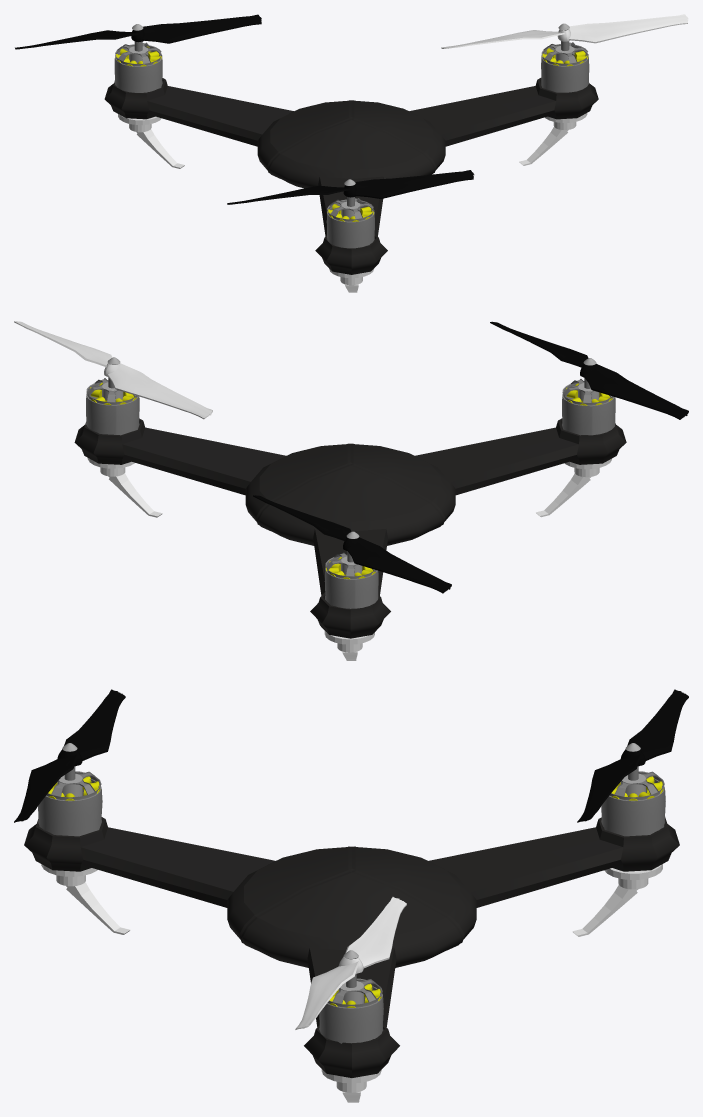
Rendered from uav4.fbx.
The picture shows the model from 3 angles, top to bottom: view 1: azimuth 30°, elevation 25°; view 2: azimuth 150°, elevation 25°; view 3: azimuth 270°, elevation 25°; orthographic projection. The views are drawn at different scales.
Parts seen in each view (by area): view 1: pCylinder63, polySurface62, polySurface58, polySurface59, pCylinder69, pCylinder65, pCylinder66, pCube11, pCube10; view 2: pCylinder63, polySurface59, polySurface58, polySurface62, pCylinder69, pCylinder66, pCylinder65, pCube12, pCube10, pCube11; view 3: pCylinder63, polySurface58, polySurface59, polySurface62, pCylinder66, pCylinder65, pCylinder69, pCube11, pCube12, pCube10.
Boxes of the visible parts, x1,y1,x2,y2 form: pCylinder63: [104, 78, 598, 274]; polySurface62: [441, 14, 688, 48]; polySurface58: [15, 14, 261, 49]; polySurface59: [227, 170, 474, 204]; pCylinder69: [541, 41, 589, 92]; pCylinder65: [114, 41, 162, 92]; pCylinder66: [326, 197, 374, 248]; pCube11: [118, 114, 184, 168]; pCube10: [519, 113, 587, 165]; pCylinder63: [74, 418, 626, 638]; polySurface59: [490, 321, 688, 419]; polySurface58: [253, 495, 451, 593]; polySurface62: [14, 321, 212, 419]; pCylinder69: [86, 377, 139, 435]; pCylinder66: [562, 378, 615, 435]; pCylinder65: [324, 551, 378, 608]; pCube12: [536, 458, 611, 517]; pCube10: [87, 458, 162, 517]; pCube11: [324, 631, 374, 660]; pCylinder63: [24, 817, 679, 1077]; polySurface58: [577, 689, 688, 822]; polySurface59: [14, 689, 125, 822]; polySurface62: [295, 897, 406, 1029]; pCylinder66: [38, 766, 102, 836]; pCylinder65: [601, 766, 665, 836]; pCylinder69: [319, 973, 383, 1043]; pCube11: [572, 864, 662, 936]; pCube12: [41, 864, 129, 934]; pCube10: [321, 1069, 381, 1102].
Bounding box in the file's own units: 27.14 × 6.51 × 22.5.
